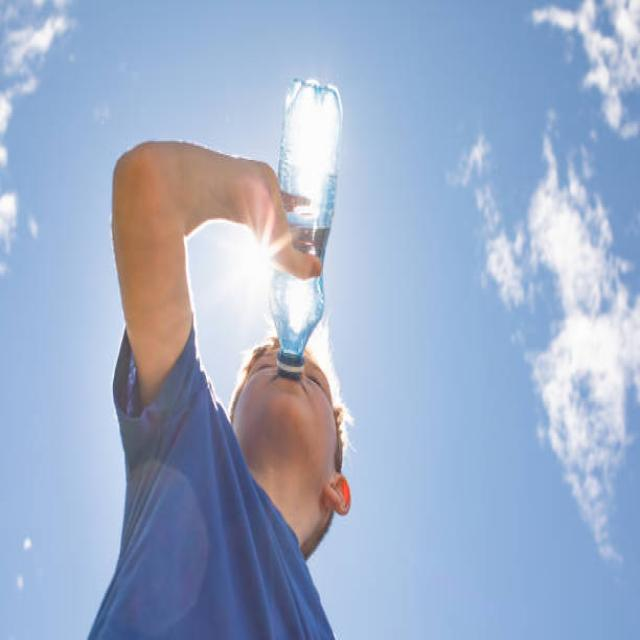Bottle: (279, 79, 341, 261)
